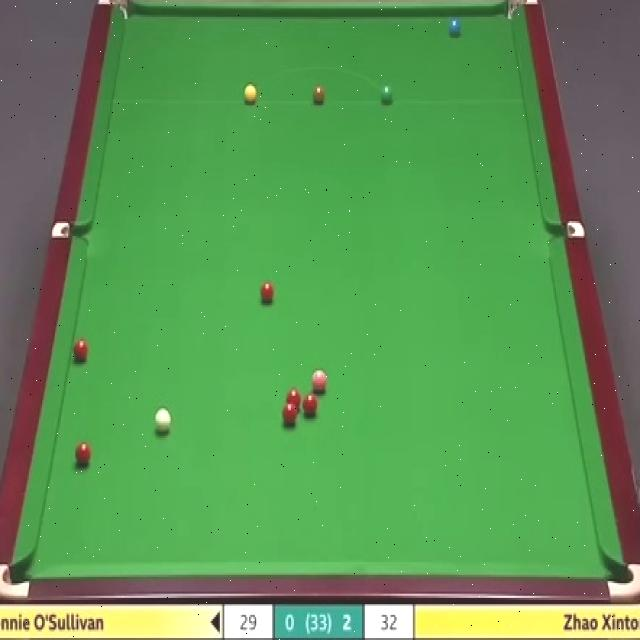blue-ball: (447, 13, 463, 38)
brown-ball: (312, 85, 326, 107)
green-ball: (380, 84, 394, 107)
pink-ball: (308, 369, 328, 395)
red-ball: (74, 440, 92, 470), (301, 392, 319, 417), (259, 280, 276, 305), (72, 338, 88, 364), (281, 403, 298, 427), (285, 388, 302, 410)
white-ball: (154, 406, 173, 436)
yellow-ball: (244, 84, 258, 105)
